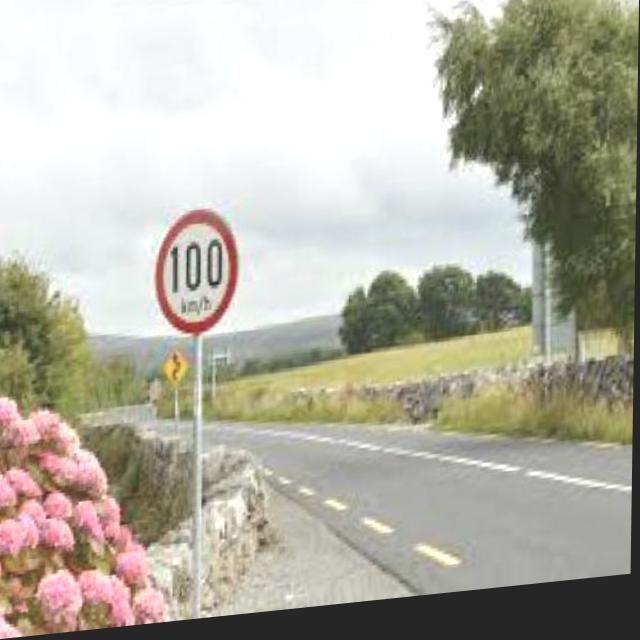limit100: (150, 207, 245, 348)
